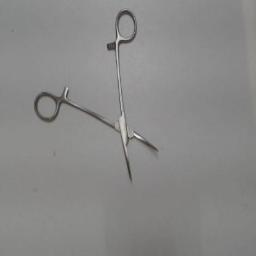Crile Artery Forceps: (32, 4, 164, 188)
